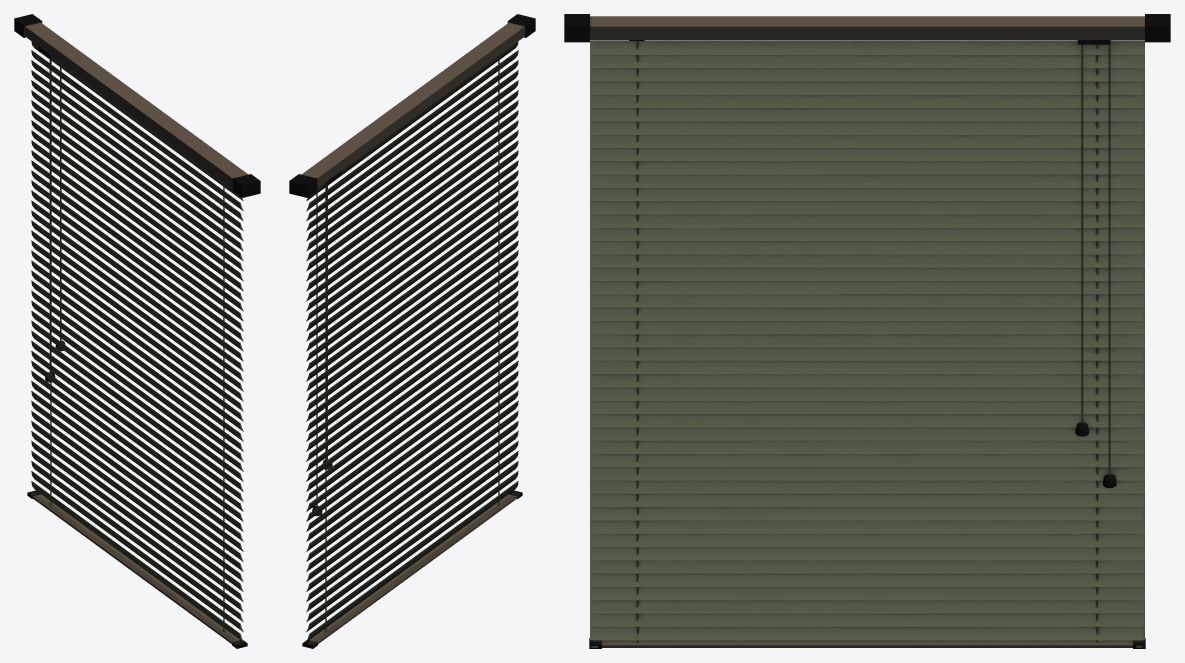
The model's file is cortina.glb.
3 views of the same model, side by side, from view 1: azimuth 30°, elevation 25°; view 2: azimuth 150°, elevation 25°; view 3: azimuth 270°, elevation 25° (orthographic). The views are drawn at different scales.
Visible parts, largest first — view 1: Cylinder_1; view 2: Cylinder_1; view 3: Cylinder_1.
Boxes of the visible parts, box(x1,y1,x2,y2) form: Cylinder_1: box(14, 14, 260, 648); Cylinder_1: box(289, 14, 535, 648); Cylinder_1: box(564, 14, 1170, 648).
Size of the model in its own units: 0.0574 by 1.41 by 1.24.
Materials: 1 (1 with a texture image).
